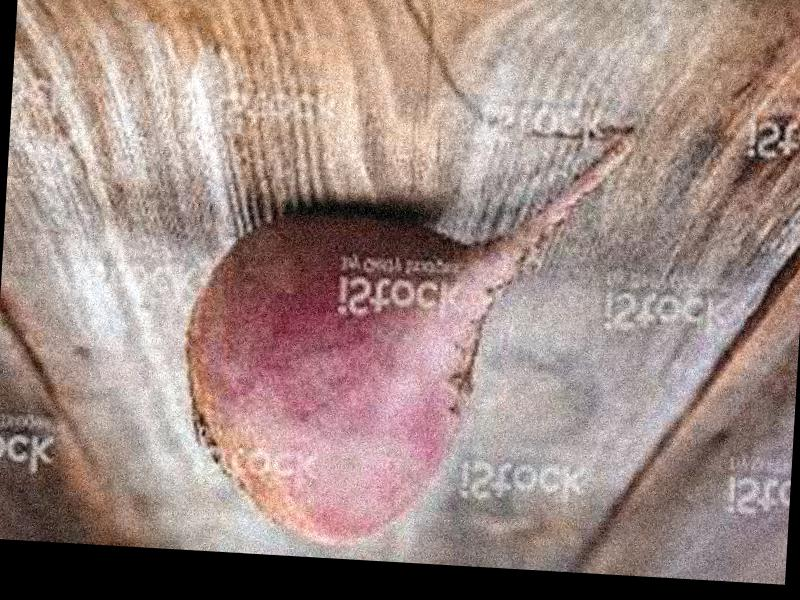Beet: (176, 106, 639, 561)
